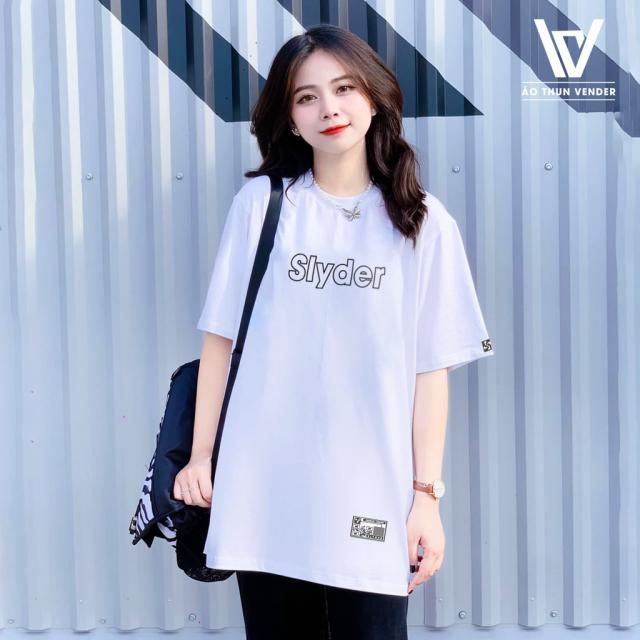Shirt: (191, 165, 505, 602)
